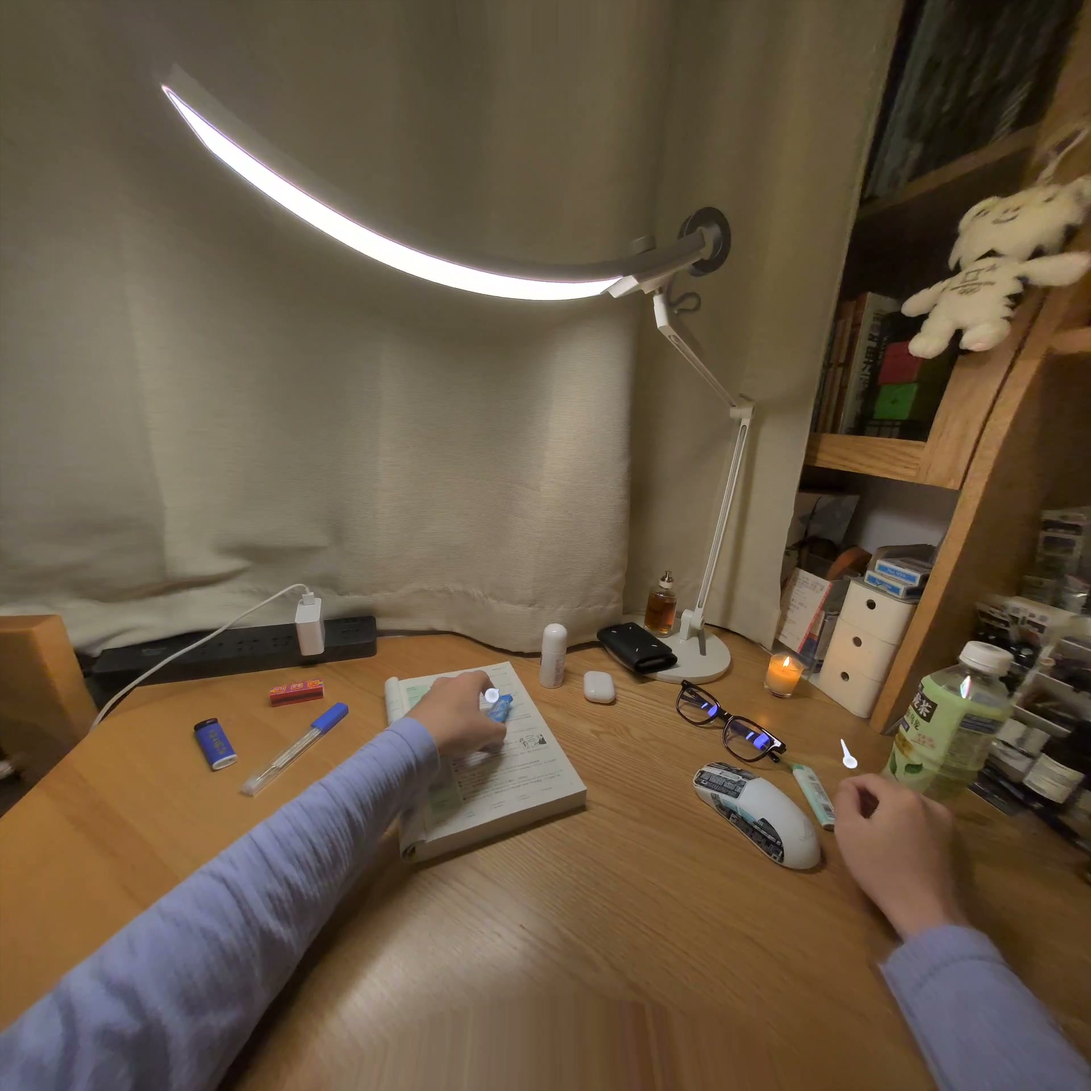lighter: (486, 695, 513, 724)
